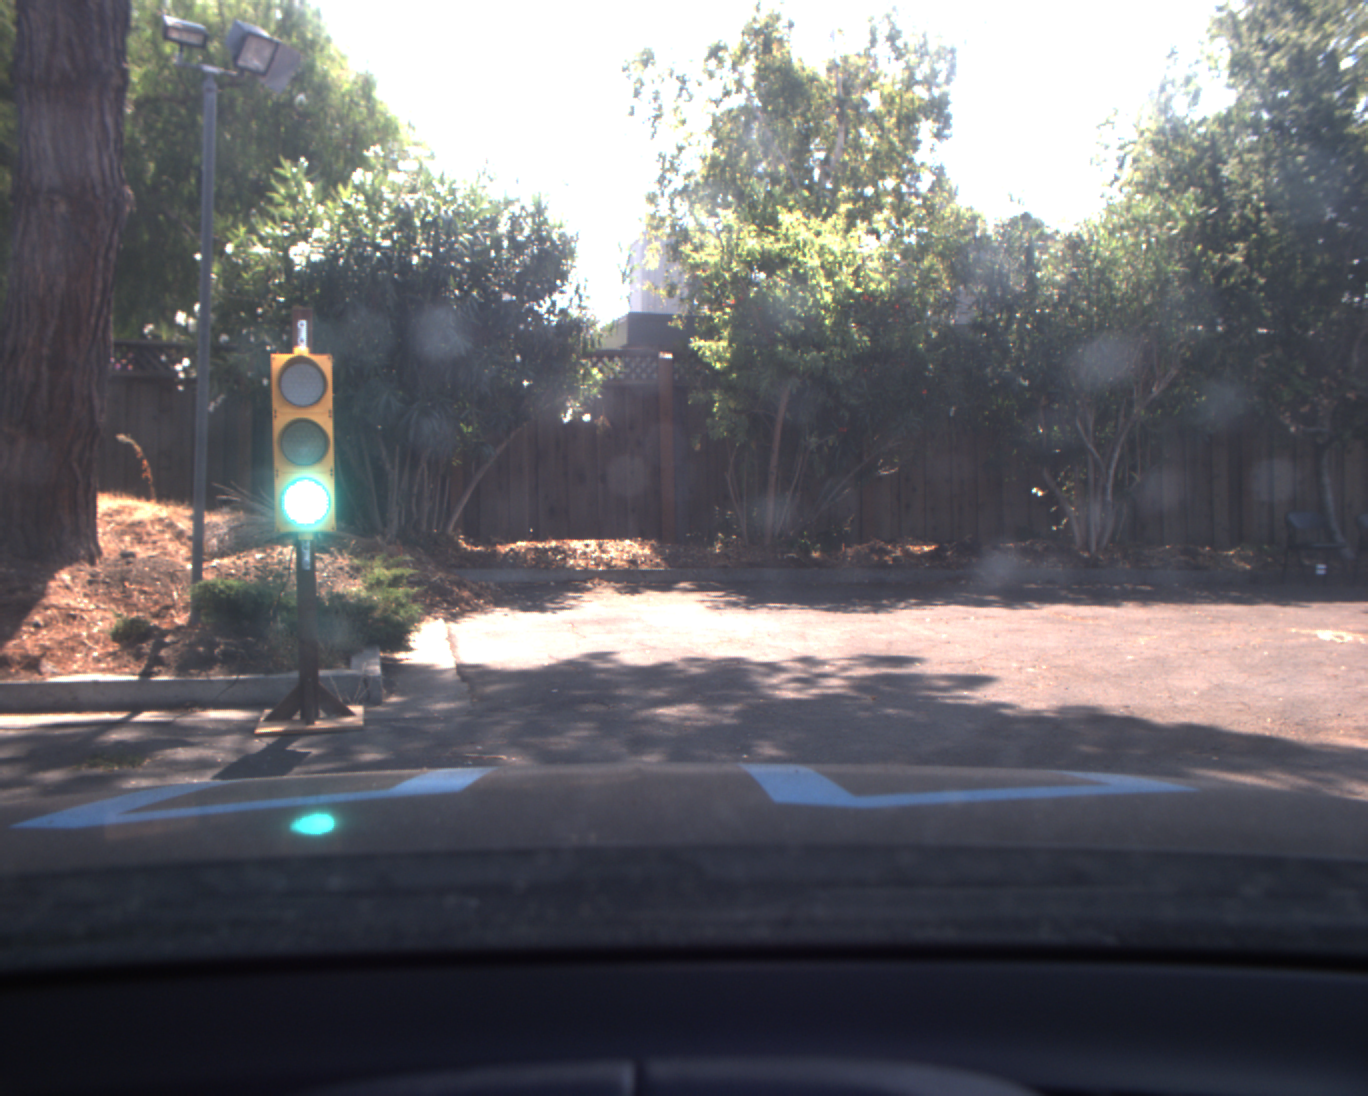green: (264, 348, 342, 537)
